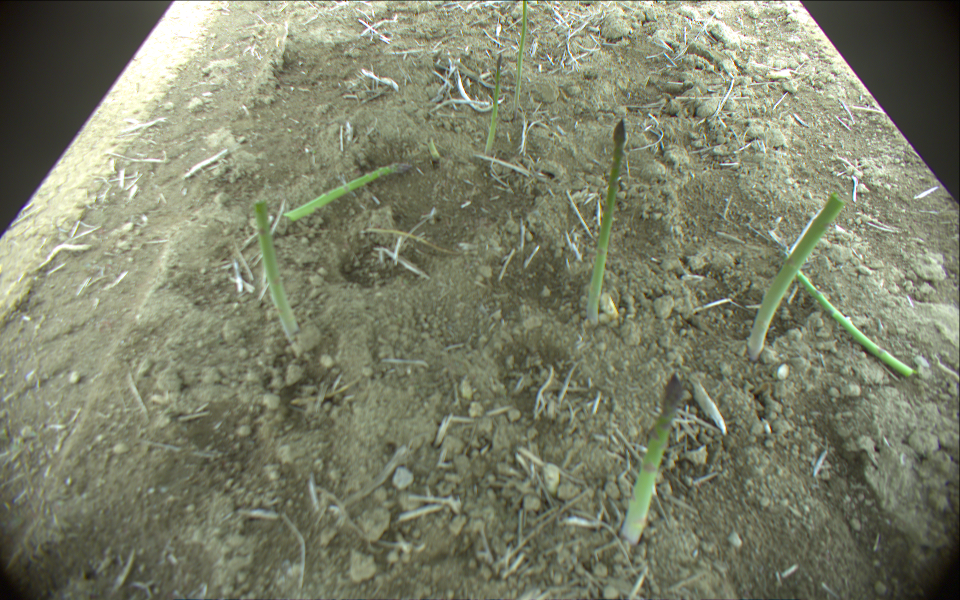aspa: (749, 193, 842, 359), (798, 270, 915, 378), (618, 377, 684, 545), (583, 117, 625, 326), (286, 156, 410, 222), (257, 201, 300, 341), (486, 53, 504, 151), (516, 1, 527, 114)
